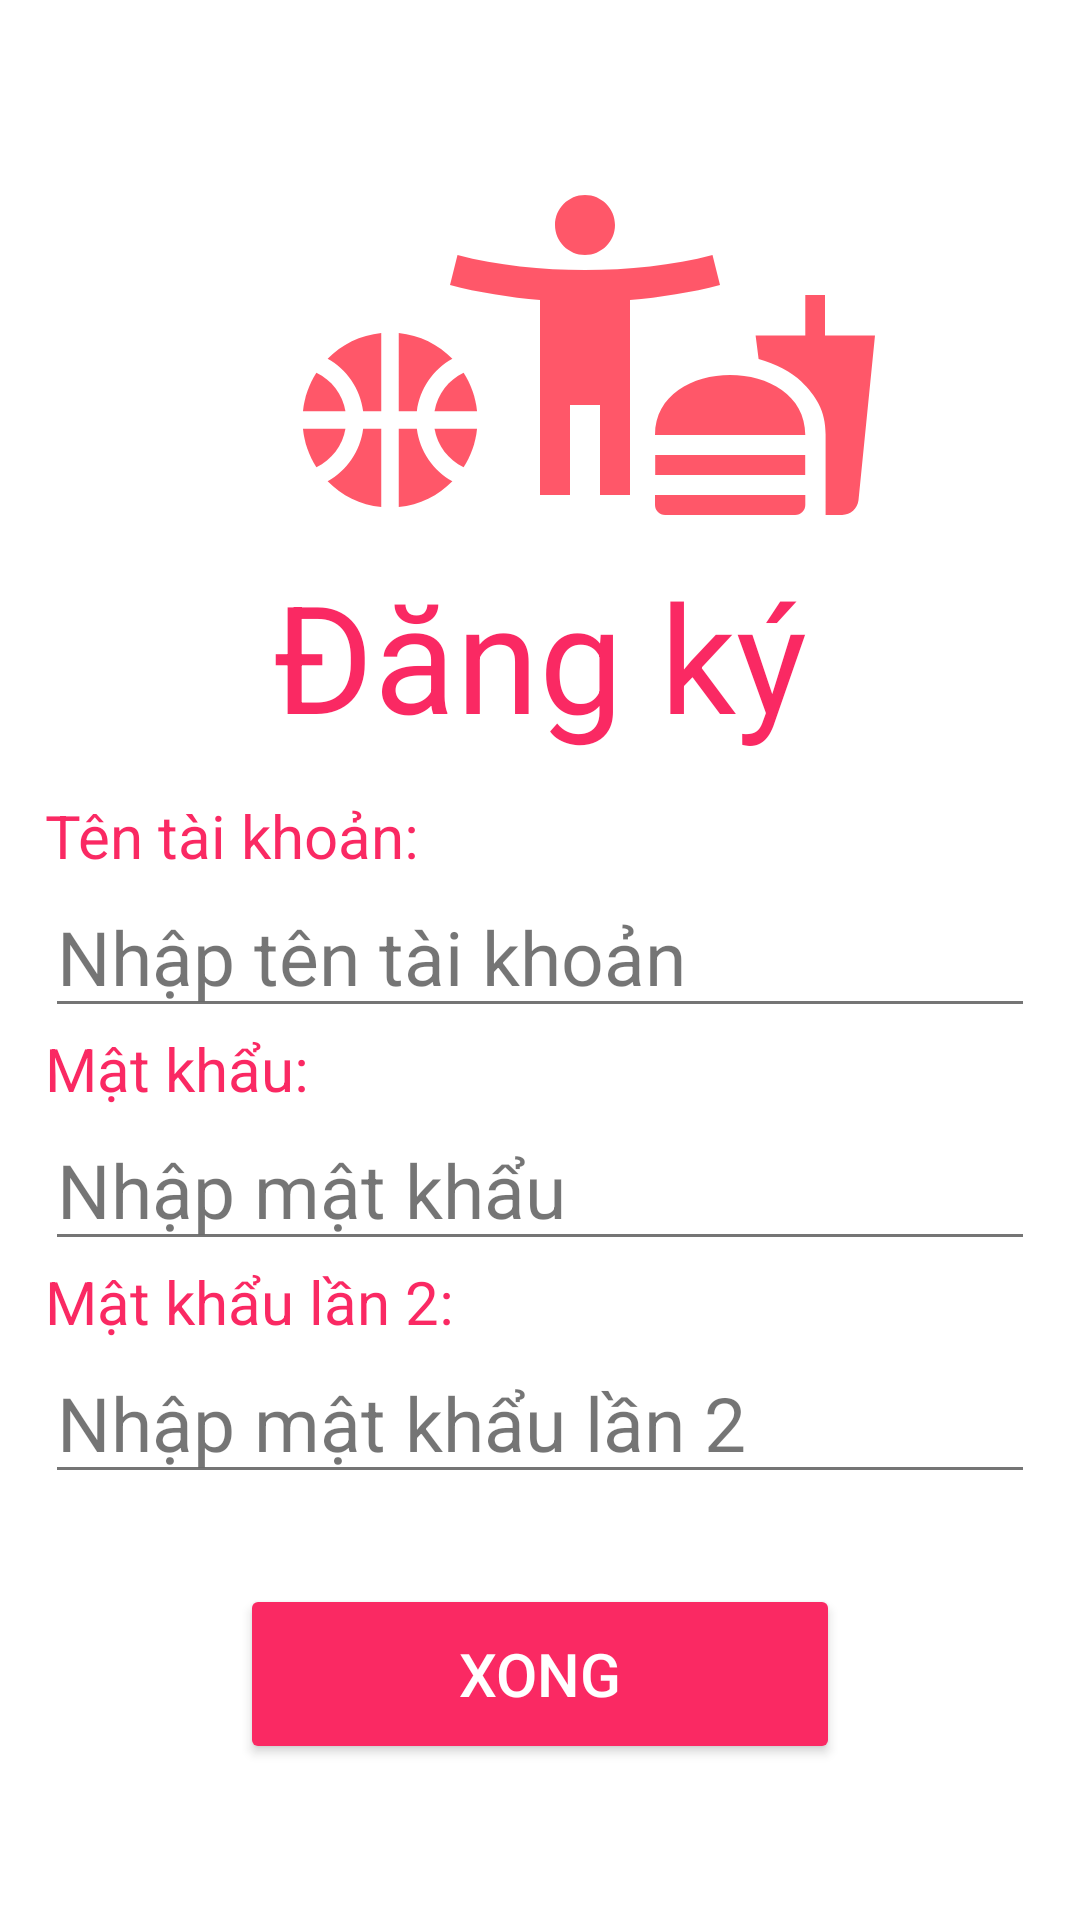

Icon bounding boxes for this 1080 x 1920 phone screenshot, format (x1, y1, x2, y2):
doan: (655, 295, 875, 515)
healthy: (434, 195, 720, 495)
sports basketball: (303, 333, 477, 507)
